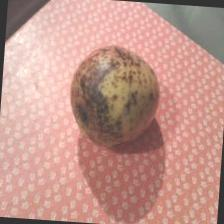Mango Rotten: (69, 32, 166, 144)
